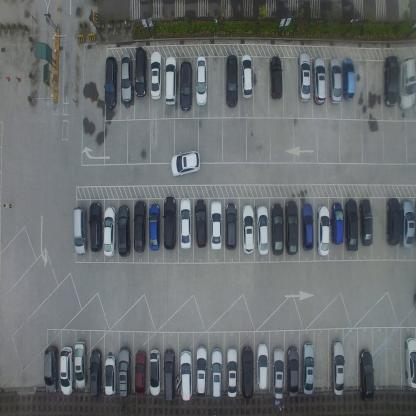car: (398, 54, 416, 112), (358, 347, 375, 403), (170, 148, 200, 178), (162, 195, 177, 251), (344, 197, 359, 253), (72, 204, 88, 256), (383, 55, 399, 107), (330, 338, 344, 396), (285, 200, 299, 256), (179, 350, 194, 402), (296, 51, 311, 103), (104, 55, 118, 110), (195, 344, 209, 398), (194, 198, 209, 248), (59, 346, 74, 396), (43, 344, 58, 394), (301, 342, 315, 395), (117, 345, 131, 398), (133, 200, 147, 253), (312, 57, 327, 106), (271, 346, 285, 398), (163, 348, 176, 404), (117, 204, 131, 256), (225, 53, 238, 109), (210, 347, 224, 398), (241, 204, 255, 254), (316, 206, 330, 256), (401, 199, 415, 249), (74, 339, 88, 389), (256, 204, 269, 257), (103, 204, 116, 257), (89, 199, 102, 252), (164, 54, 177, 107), (328, 57, 342, 106), (286, 345, 299, 397), (241, 346, 254, 398), (195, 56, 208, 108), (179, 60, 192, 112), (149, 49, 162, 101), (134, 46, 147, 98), (224, 202, 238, 250), (359, 199, 373, 247), (386, 198, 400, 246), (89, 348, 103, 396), (271, 202, 283, 257), (404, 336, 416, 390), (269, 55, 283, 101), (179, 197, 191, 250), (226, 346, 238, 399), (341, 56, 355, 101), (301, 203, 314, 251), (134, 349, 147, 397), (210, 200, 222, 250), (240, 53, 253, 98), (256, 343, 268, 391), (331, 201, 344, 245), (121, 52, 132, 102), (104, 354, 117, 396), (149, 202, 160, 251), (149, 348, 160, 396)
